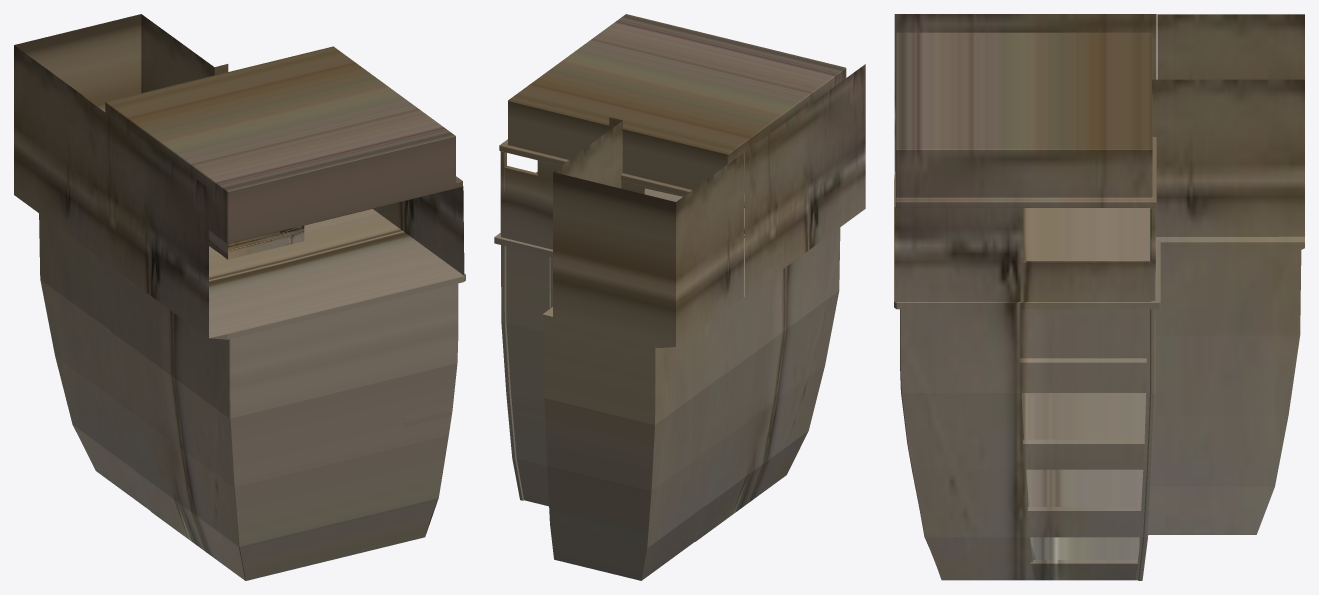
File: Env_FlatsHouseFix.fbx
3 renders of one model, left to right at view 1: azimuth 30°, elevation 25°; view 2: azimuth 150°, elevation 25°; view 3: azimuth 270°, elevation 25°, orthographic. The views are drawn at different scales.
Parts seen in each view (by area): view 1: Env_Flats; view 2: Env_Flats; view 3: Env_Flats.
Part boxes in pixels (box(x1,y1,x2,y2)): Env_Flats: box(14, 14, 465, 580); Env_Flats: box(494, 14, 865, 580); Env_Flats: box(894, 14, 1304, 580).
Size of the model in its own units: 2007 by 3149 by 2641.
Materials: 1 (1 with a texture image).
